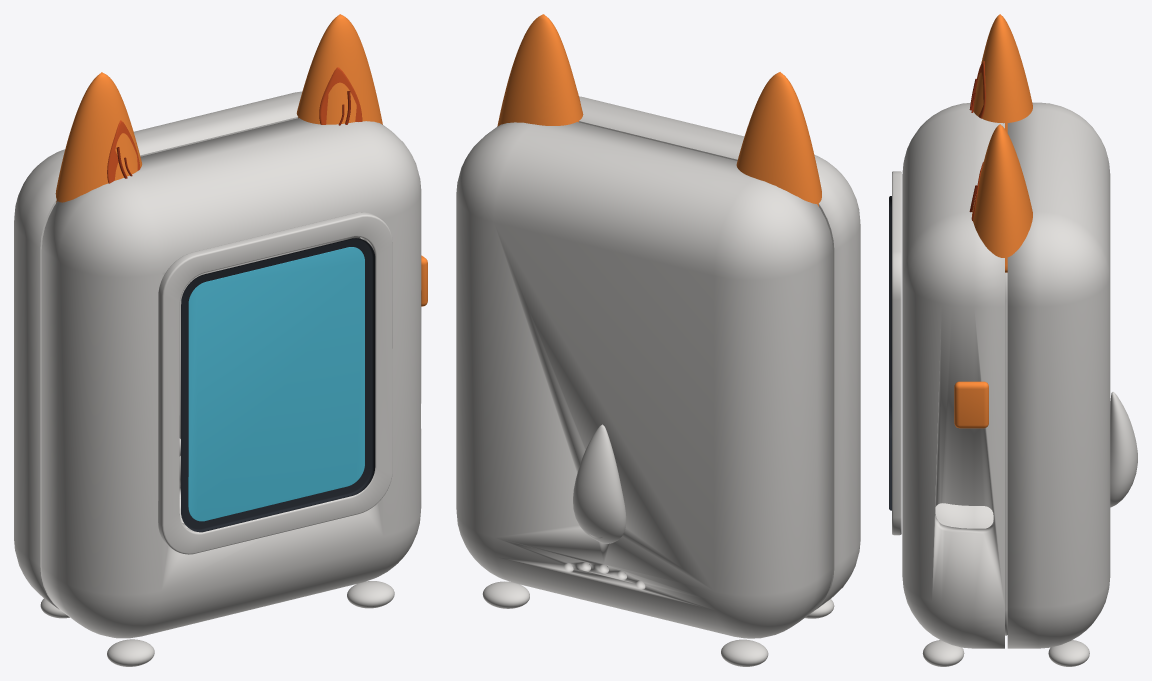
The model's file is PocketMung_production_assembly.glb.
3 renders of one model, left to right at view 1: azimuth 30°, elevation 25°; view 2: azimuth 150°, elevation 25°; view 3: azimuth 270°, elevation 25°, orthographic. The views are drawn at different scales.
Visible parts, largest first — view 1: PROD_Body_Front_Display, Display_Active_Area, Display_Bezel, PROD_Body_Rear, Display_Glass, Ear_Left_Orange, Ear_Right_Orange, Foot_L_Front, Foot_R_Front, Ear_Right_Inner_Recess, Ear_Left_Inner_Recess; view 2: PROD_Body_Rear, PROD_Body_Front_Display, Ear_Left_Orange, Ear_Right_Orange, Tail_Teardrop, Foot_L_Rear, Foot_R_Rear; view 3: PROD_Body_Rear, PROD_Body_Front_Display, Ear_Right_Orange, Ear_Left_Orange, Display_Bezel, Tail_Teardrop, Side_Power_Button, PROD_Rear_Alignment_Lip, Display_Glass, Foot_R_Rear, Foot_R_Front.
Boxes of the visible parts, bbox=[...] form: PROD_Body_Front_Display: bbox=[41, 118, 421, 638]; Display_Active_Area: bbox=[188, 247, 364, 521]; Display_Bezel: bbox=[158, 212, 392, 554]; PROD_Body_Rear: bbox=[14, 91, 360, 609]; Display_Glass: bbox=[181, 238, 375, 532]; Ear_Left_Orange: bbox=[55, 72, 142, 202]; Ear_Right_Orange: bbox=[296, 14, 382, 124]; Foot_L_Front: bbox=[107, 639, 154, 666]; Foot_R_Front: bbox=[347, 581, 394, 608]; Ear_Right_Inner_Recess: bbox=[319, 67, 362, 124]; Ear_Left_Inner_Recess: bbox=[107, 120, 140, 183]; PROD_Body_Rear: bbox=[456, 122, 832, 638]; PROD_Body_Front_Display: bbox=[578, 96, 860, 609]; Ear_Left_Orange: bbox=[736, 72, 821, 206]; Ear_Right_Orange: bbox=[497, 14, 583, 126]; Tail_Teardrop: bbox=[573, 424, 626, 543]; Foot_L_Rear: bbox=[721, 639, 768, 666]; Foot_R_Rear: bbox=[482, 581, 529, 608]; PROD_Body_Rear: bbox=[1007, 102, 1110, 648]; PROD_Body_Front_Display: bbox=[902, 103, 1004, 648]; Ear_Right_Orange: bbox=[972, 124, 1032, 272]; Ear_Left_Orange: bbox=[973, 14, 1032, 132]; Display_Bezel: bbox=[892, 171, 901, 535]; Tail_Teardrop: bbox=[1110, 392, 1137, 507]; Side_Power_Button: bbox=[954, 381, 988, 428]; PROD_Rear_Alignment_Lip: bbox=[1005, 272, 1007, 635]; Display_Glass: bbox=[889, 196, 891, 510]; Foot_R_Rear: bbox=[1048, 640, 1089, 666]; Foot_R_Front: bbox=[922, 640, 964, 666].
Size of the model in its own units: 79.85 by 120 by 50.28.
